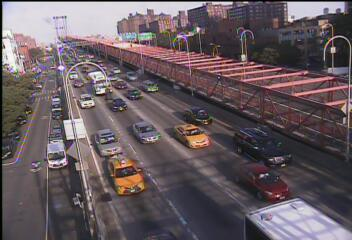neg: (199, 79, 230, 120), (115, 161, 146, 202), (266, 150, 291, 184), (304, 90, 329, 123), (64, 137, 87, 166), (164, 56, 186, 86), (215, 166, 237, 195), (119, 40, 141, 68), (36, 90, 57, 118), (139, 115, 160, 143), (97, 100, 117, 127), (233, 34, 253, 60), (317, 39, 337, 65), (49, 182, 69, 208), (166, 156, 185, 181), (83, 34, 99, 56), (54, 10, 70, 31), (251, 93, 266, 112)
